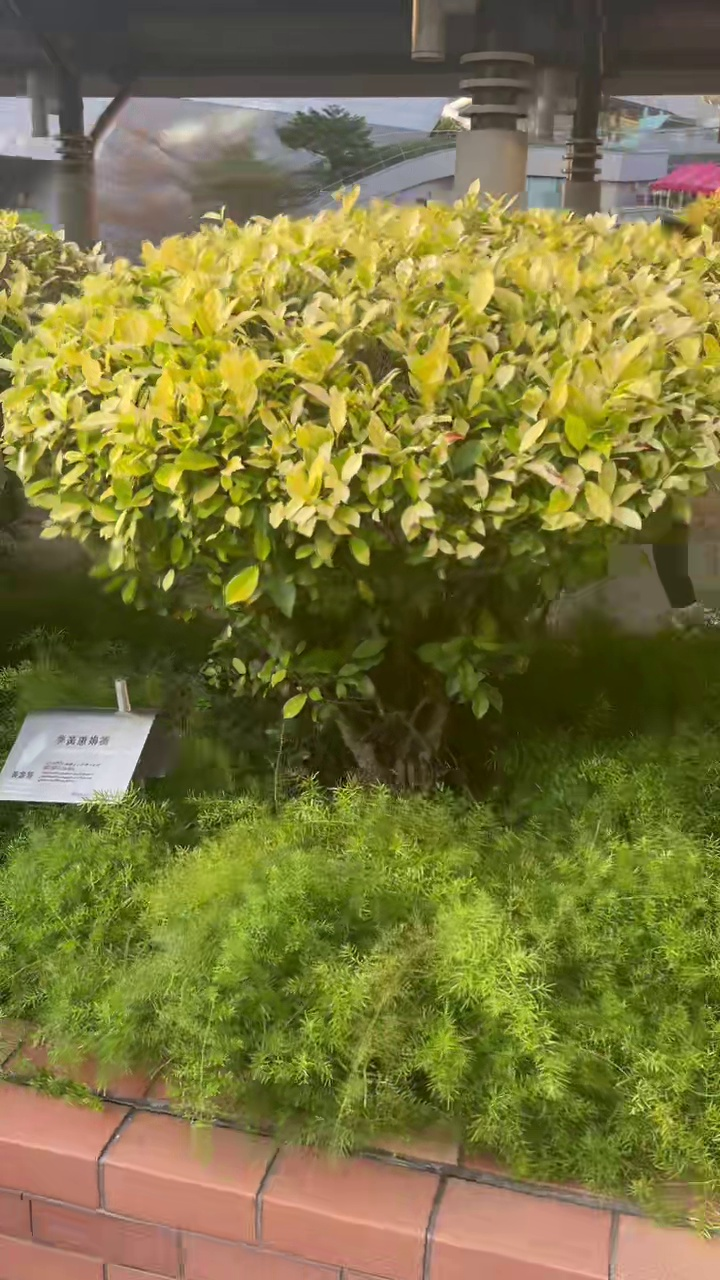Golden-leaves Fig: (5, 189, 719, 778)
